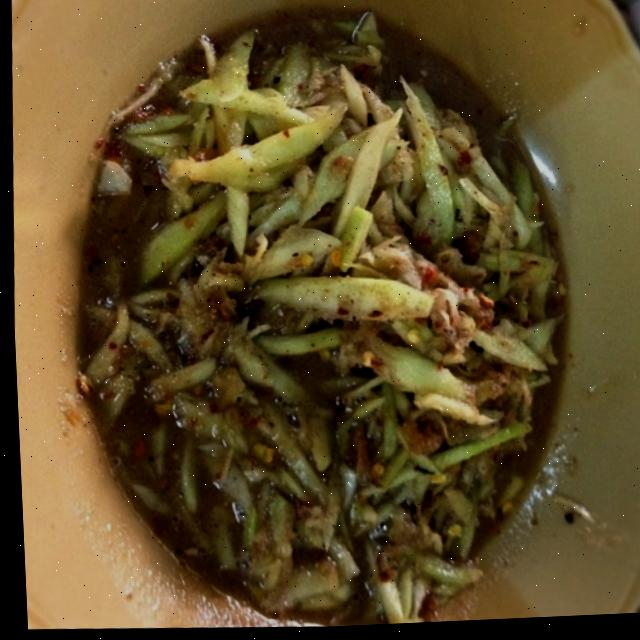蔬菜料理: (9, 0, 640, 640)
